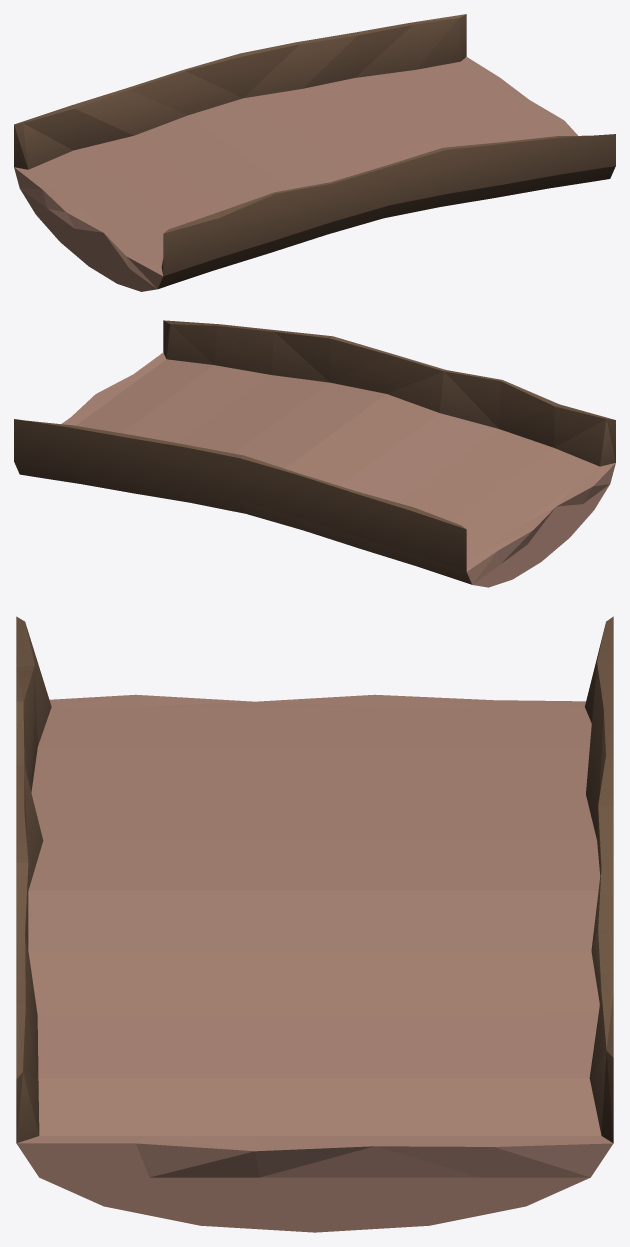
The model's file is Brücke.fbx.
The picture shows the model from 3 angles, top to bottom: view 1: azimuth 30°, elevation 25°; view 2: azimuth 150°, elevation 25°; view 3: azimuth 270°, elevation 25°; orthographic projection. The views are drawn at different scales.
Parts seen in each view (by area): view 1: Brücke; view 2: Brücke; view 3: Brücke.
Boxes of the visible parts, bbox=[...] form: Brücke: bbox=[14, 14, 615, 291]; Brücke: bbox=[14, 320, 615, 587]; Brücke: bbox=[16, 616, 613, 1232].
Size of the model in its own units: 1098 by 231 by 607.
